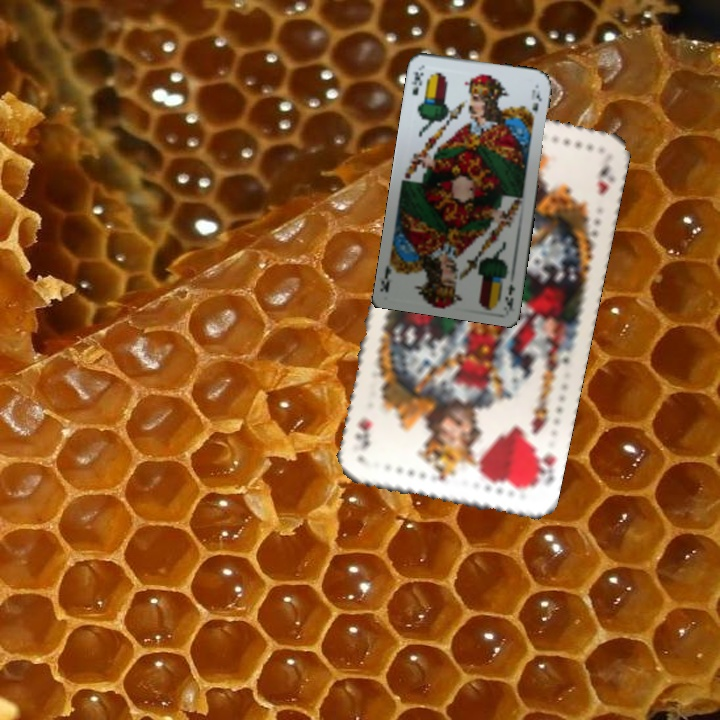EK: (408, 67, 426, 98), (501, 280, 518, 311)
HK: (525, 444, 558, 490)
